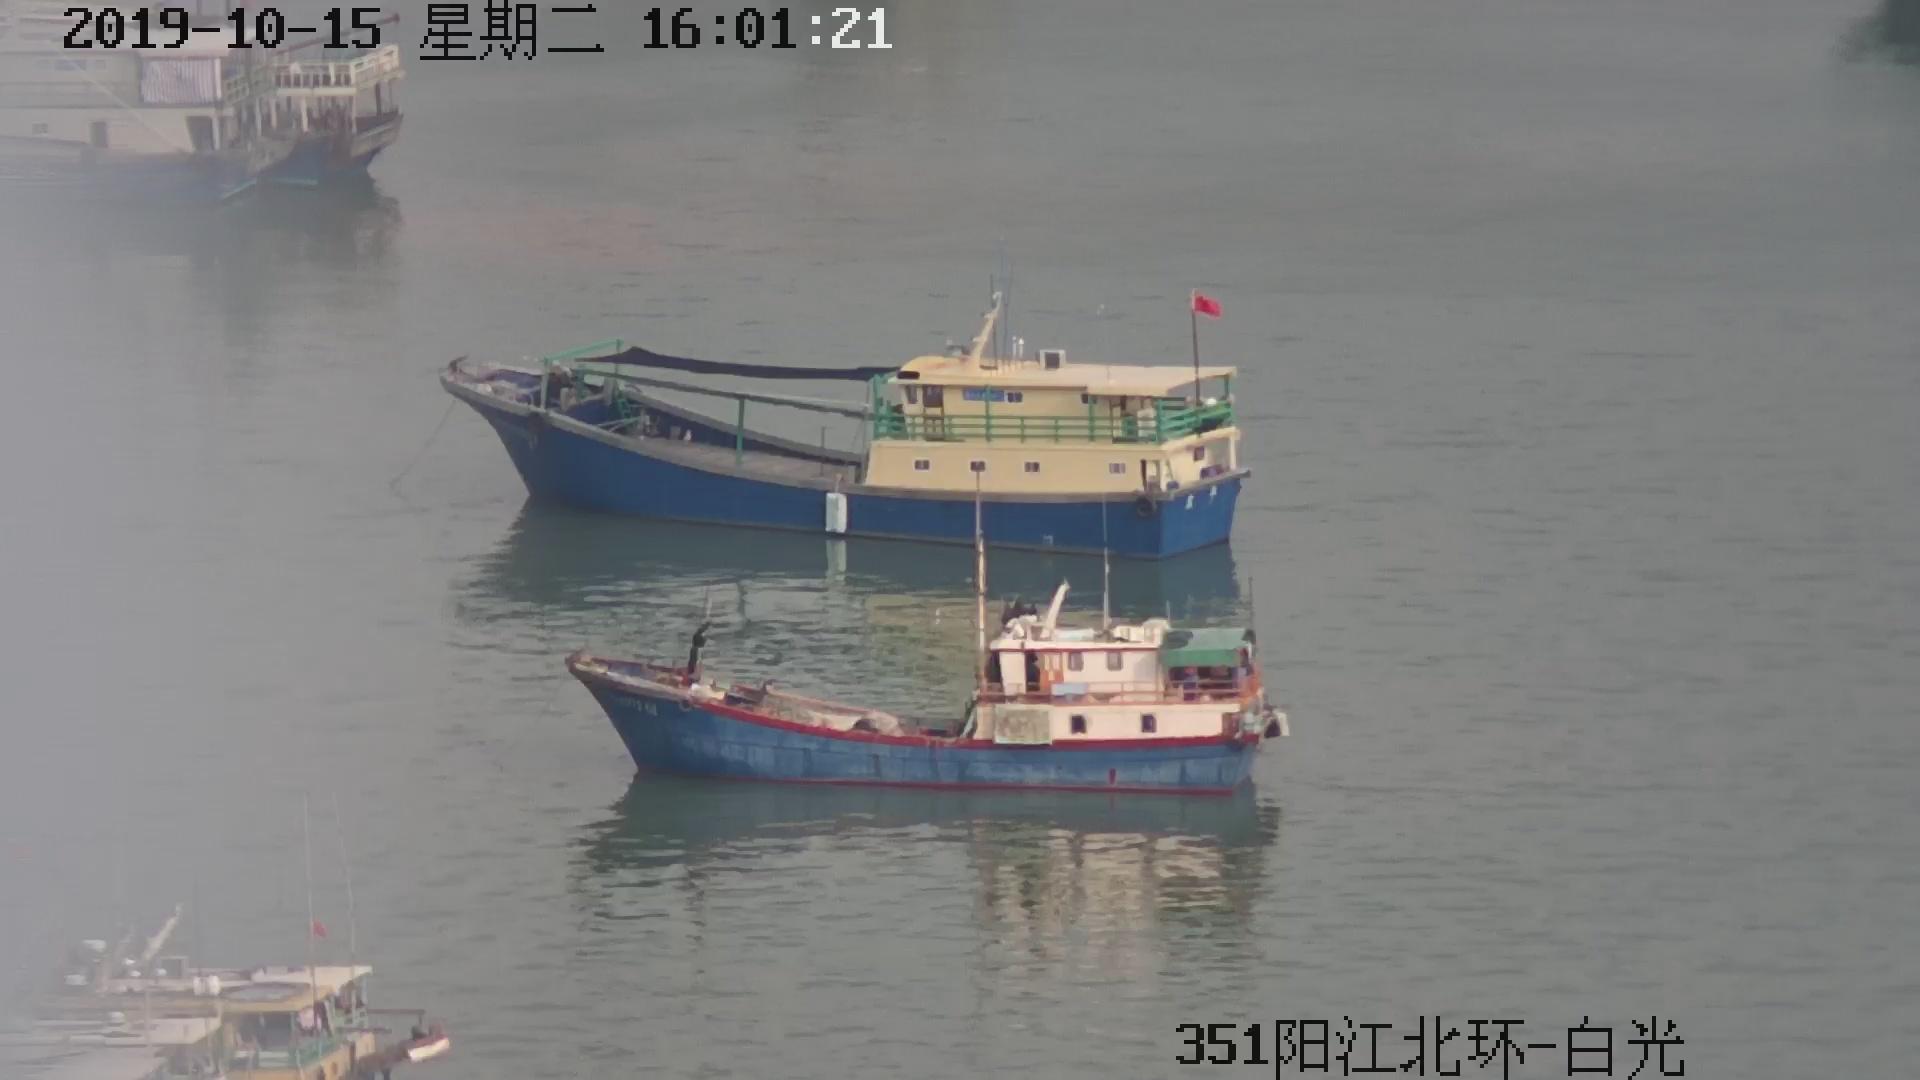ship: (436, 252, 1255, 556), (564, 582, 1284, 804)
